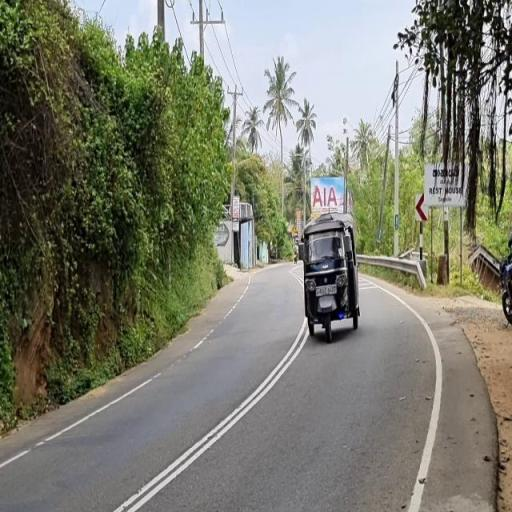double_white_line: (110, 322, 305, 510)
